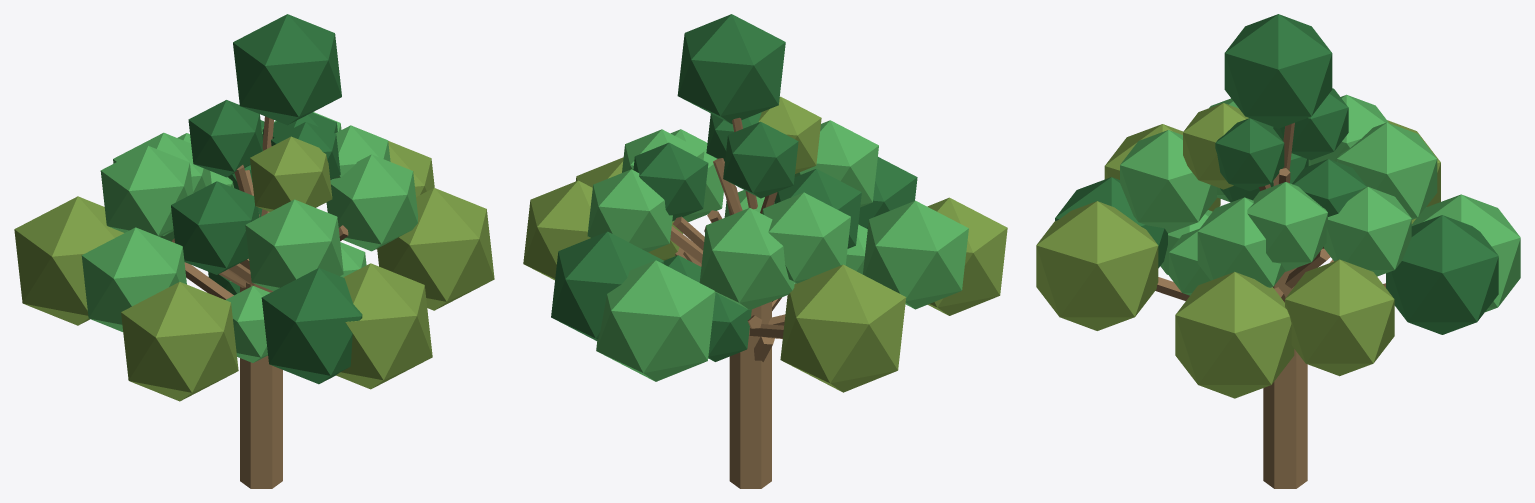
The model's file is Tree_03.glb.
3 renders of one model, left to right at view 1: azimuth 30°, elevation 25°; view 2: azimuth 150°, elevation 25°; view 3: azimuth 270°, elevation 25°, orthographic. The views are drawn at different scales.
Parts seen in each view (by area): view 1: T03_Sphere_08, T03_Sphere_03, T03_Sphere_05, T03_Sphere_13, T03_Sphere_09, T03_Sphere_07, T03_Sphere_12, T03_Sphere_18, T03_Sphere_14, T03_Sphere_20, T03_Sphere_17, T03_Trunk (+10 smaller); view 2: T03_Sphere_07, T03_Sphere_11, T03_Sphere_03, T03_Sphere_12, T03_Sphere_16, T03_Sphere_06, T03_Trunk, T03_Sphere_20, T03_Sphere_15, T03_Sphere_08, T03_Sphere_10, T03_Sphere_22 (+13 smaller); view 3: T03_Sphere_09, T03_Sphere_05, T03_Sphere_06, T03_Sphere_10, T03_Sphere_03, T03_Sphere_18, T03_Sphere_16, T03_Sphere_15, T03_Trunk, T03_Sphere_19, T03_Sphere_14, T03_Sphere_24 (+11 smaller).
Part boxes in pixels (<box>): T03_Sphere_08: <box>121,282,238,401</box>; T03_Sphere_03: <box>233,14,341,125</box>; T03_Sphere_05: <box>377,188,494,310</box>; T03_Sphere_13: <box>261,268,362,384</box>; T03_Sphere_09: <box>336,263,432,389</box>; T03_Sphere_07: <box>14,196,123,325</box>; T03_Sphere_12: <box>81,227,186,331</box>; T03_Sphere_18: <box>245,199,343,291</box>; T03_Sphere_14: <box>326,154,418,251</box>; T03_Sphere_20: <box>100,145,193,236</box>; T03_Sphere_17: <box>171,181,259,274</box>; T03_Trunk: <box>240,258,282,488</box>; T03_Sphere_07: <box>780,264,906,392</box>; T03_Sphere_11: <box>596,260,715,381</box>; T03_Sphere_03: <box>677,14,785,123</box>; T03_Sphere_12: <box>863,200,968,309</box>; T03_Sphere_16: <box>699,208,794,309</box>; T03_Sphere_06: <box>551,231,664,340</box>; T03_Trunk: <box>729,301,771,488</box>; T03_Sphere_20: <box>762,192,850,283</box>; T03_Sphere_15: <box>587,169,672,252</box>; T03_Sphere_08: <box>927,197,1007,315</box>; T03_Sphere_10: <box>523,180,592,280</box>; T03_Sphere_22: <box>723,121,798,198</box>; T03_Sphere_09: <box>1036,201,1158,330</box>; T03_Sphere_05: <box>1175,272,1294,398</box>; T03_Sphere_06: <box>1386,215,1498,334</box>; T03_Sphere_10: <box>1285,259,1394,376</box>; T03_Sphere_03: <box>1224,14,1332,128</box>; T03_Sphere_18: <box>1120,130,1216,233</box>; T03_Sphere_16: <box>1337,122,1437,219</box>; T03_Sphere_15: <box>1324,186,1411,276</box>; T03_Trunk: <box>1263,268,1307,488</box>; T03_Sphere_19: <box>1247,182,1327,271</box>; T03_Sphere_14: <box>1197,197,1285,287</box>; T03_Sphere_24: <box>1215,118,1284,191</box>.
Bounding box in the file's own units: 2.55 × 2.87 × 2.63.
